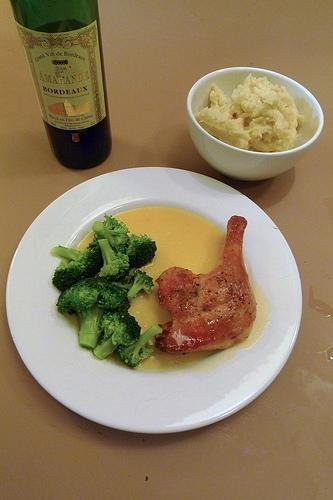broccoli: (57, 278, 131, 349), (93, 310, 141, 360), (52, 245, 104, 291), (117, 323, 163, 368), (87, 214, 130, 256), (98, 239, 130, 282), (124, 234, 157, 269), (126, 269, 154, 302), (110, 278, 134, 294)
